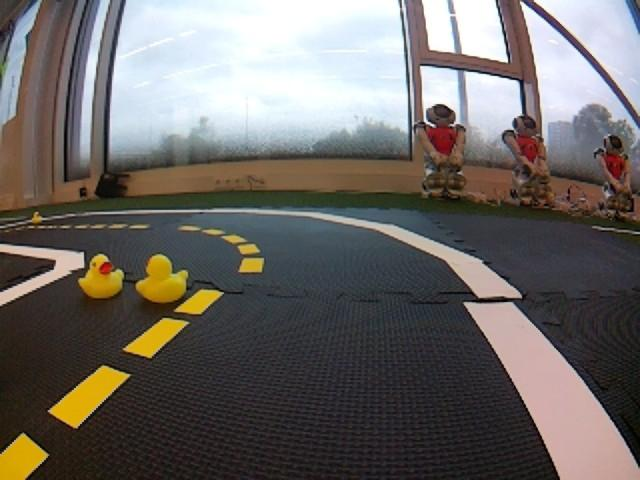Duckies: (134, 255, 187, 302), (78, 253, 124, 297), (31, 211, 42, 223)
